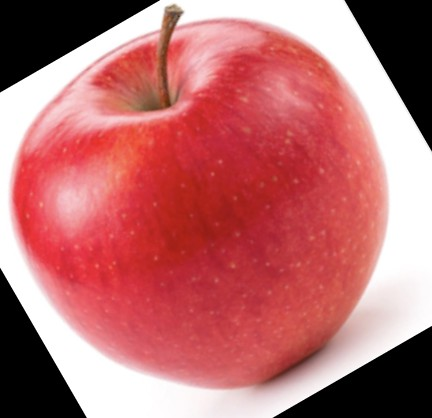fresh_apple: (12, 17, 391, 386)
